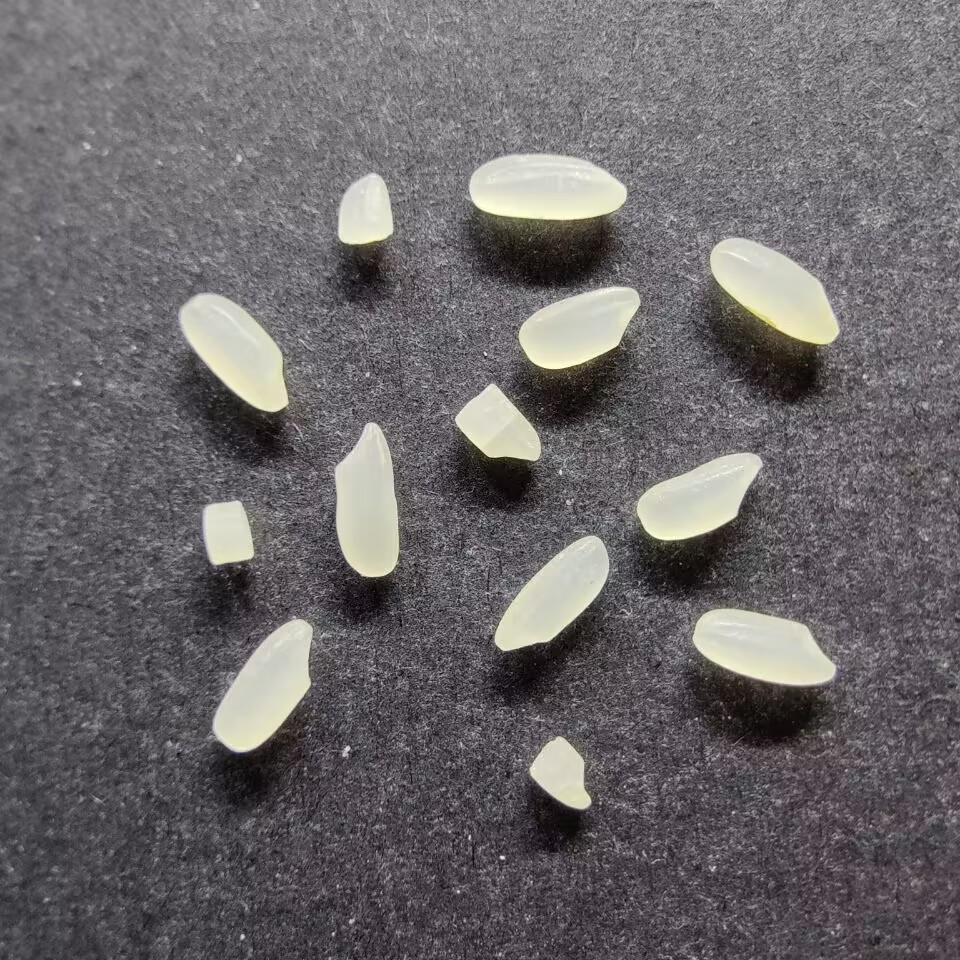broken: (453, 383, 543, 462), (528, 735, 593, 810), (336, 174, 395, 244), (199, 500, 255, 566)
rice: (709, 237, 839, 345), (212, 618, 313, 753), (493, 535, 610, 651), (178, 292, 290, 413), (635, 450, 762, 541), (692, 607, 837, 686), (468, 153, 628, 220), (332, 421, 400, 578), (517, 286, 641, 370)
